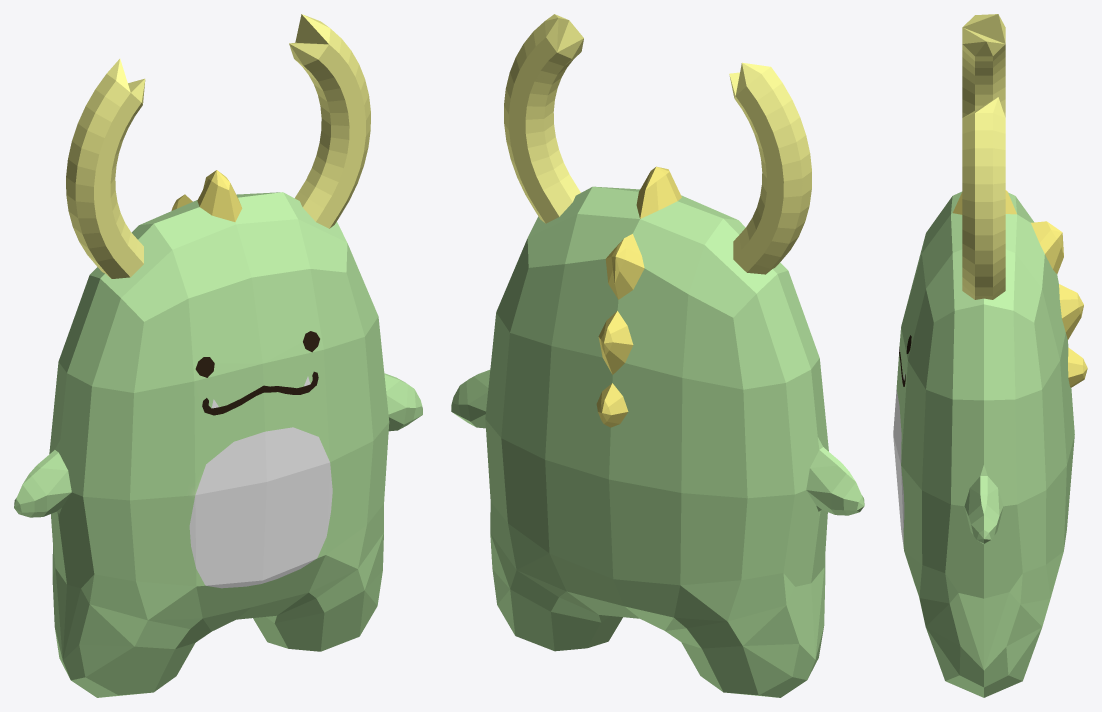
The model's file is 기사꽁룡.fbx.
3 renders of one model, left to right at view 1: azimuth 30°, elevation 25°; view 2: azimuth 150°, elevation 25°; view 3: azimuth 270°, elevation 25°, orthographic. The views are drawn at different scales.
Parts seen in each view (by area): view 1: Cube, Cube.003; view 2: Cube, Cube.003; view 3: Cube, Cube.003.
Boxes of the visible parts, x1,y1,x2,y2 form: Cube: (14, 170, 422, 697); Cube.003: (66, 14, 370, 278); Cube: (451, 166, 864, 697); Cube.003: (504, 14, 811, 274); Cube: (893, 190, 1087, 697); Cube.003: (962, 14, 1005, 299).
Size of the model in its own units: 338 by 495 by 149.
2 materials, 1 textured.
